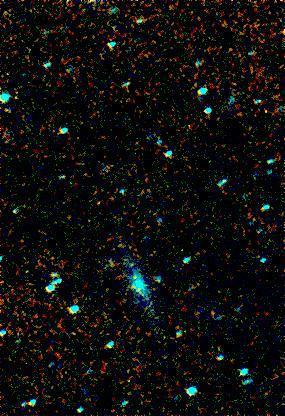star: (109, 250, 139, 280)
